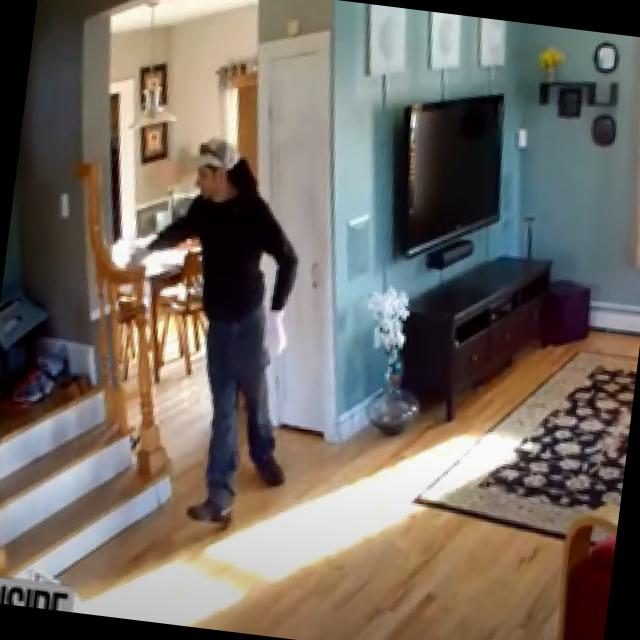person: (110, 131, 326, 534)
